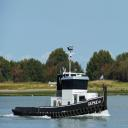tugboat: (12, 45, 110, 122)
